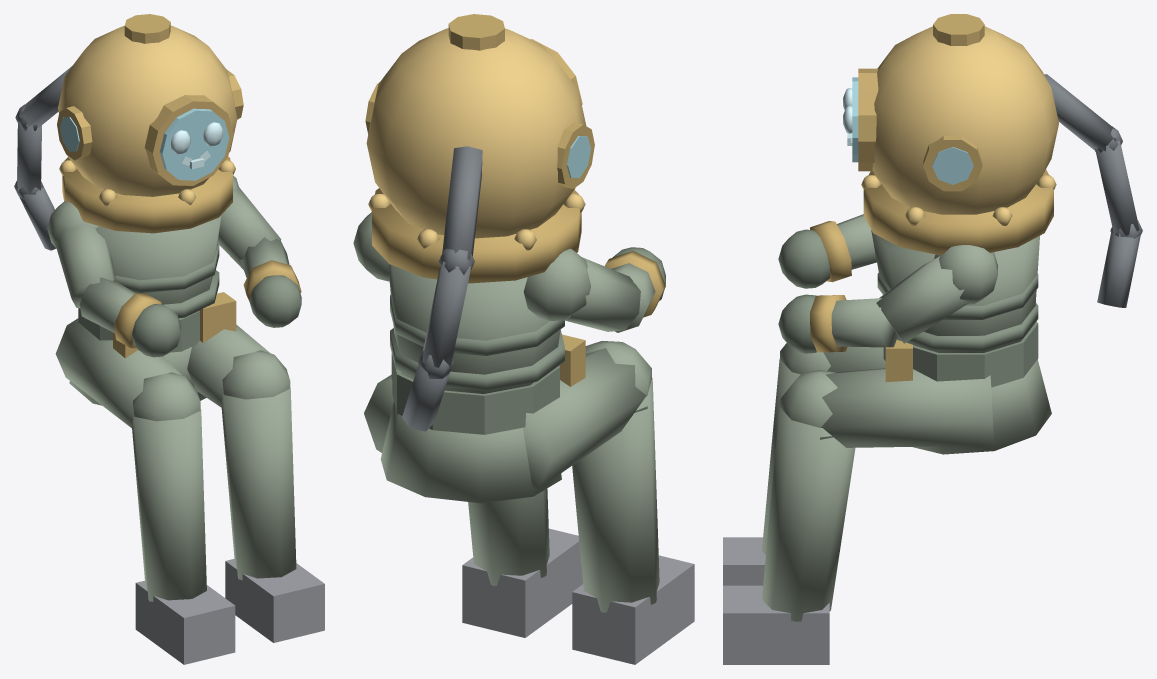
Rendered from meeple_12_taucher.glb.
3 renders of one model, left to right at view 1: azimuth 30°, elevation 25°; view 2: azimuth 150°, elevation 25°; view 3: azimuth 270°, elevation 25°, orthographic. The views are drawn at different scales.
Visible parts, largest first — view 1: meeple_12_taucher; view 2: meeple_12_taucher; view 3: meeple_12_taucher.
Boxes of the visible parts, x1,y1,x2,y2 form: meeple_12_taucher: (14, 14, 324, 664); meeple_12_taucher: (353, 14, 694, 664); meeple_12_taucher: (723, 14, 1142, 664).
Size of the model in its own units: 0.5354 by 1.34 by 0.8465.
